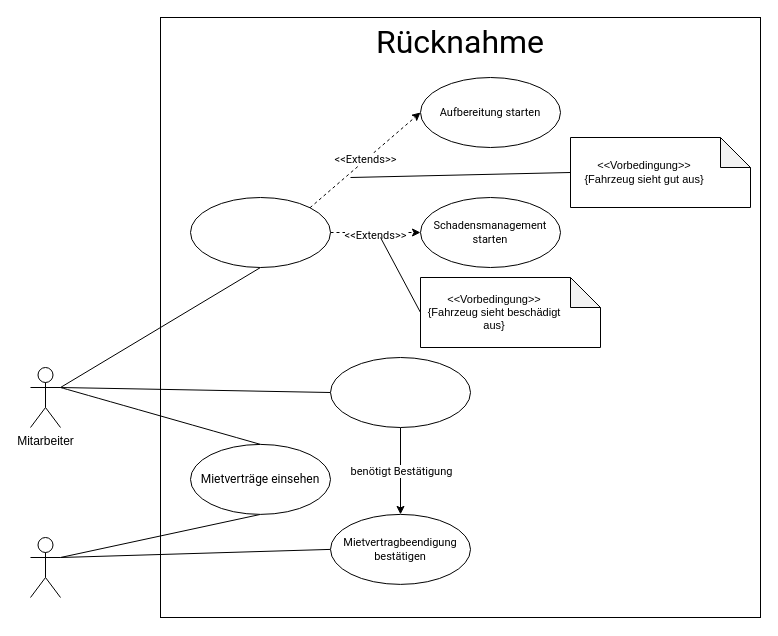
Some shapes in this 778 by 636 pixel diagram are drawn without their labels. Each missing label, with the centre of its shape:
"Kunde" goes at pixel 45 567.
"Mietvertrag beenden" goes at pixel 400 392.
"Zustand des Fahrzeugs analysieren" goes at pixel 260 232.
